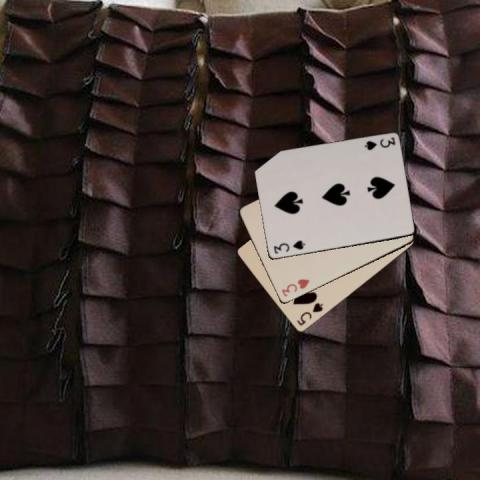3h: (278, 276, 310, 298)
3s: (271, 238, 306, 256), (361, 134, 396, 152)
5s: (293, 300, 325, 327)
